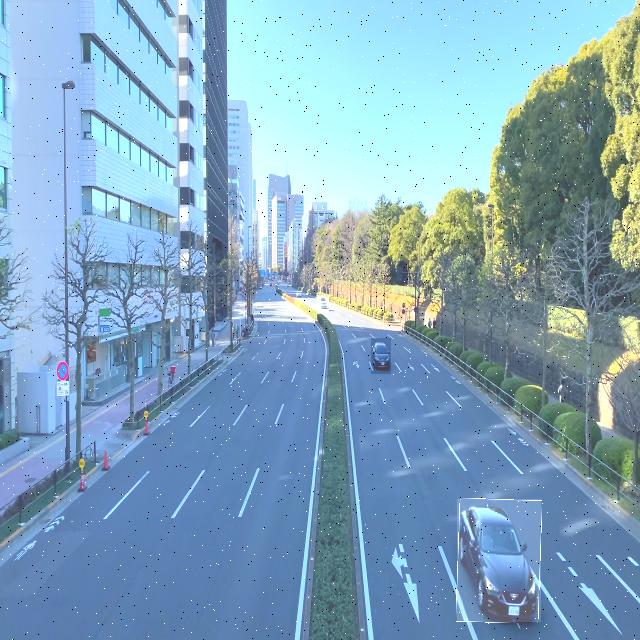Car: (457, 499, 541, 622), (371, 338, 391, 374), (318, 296, 329, 314)
